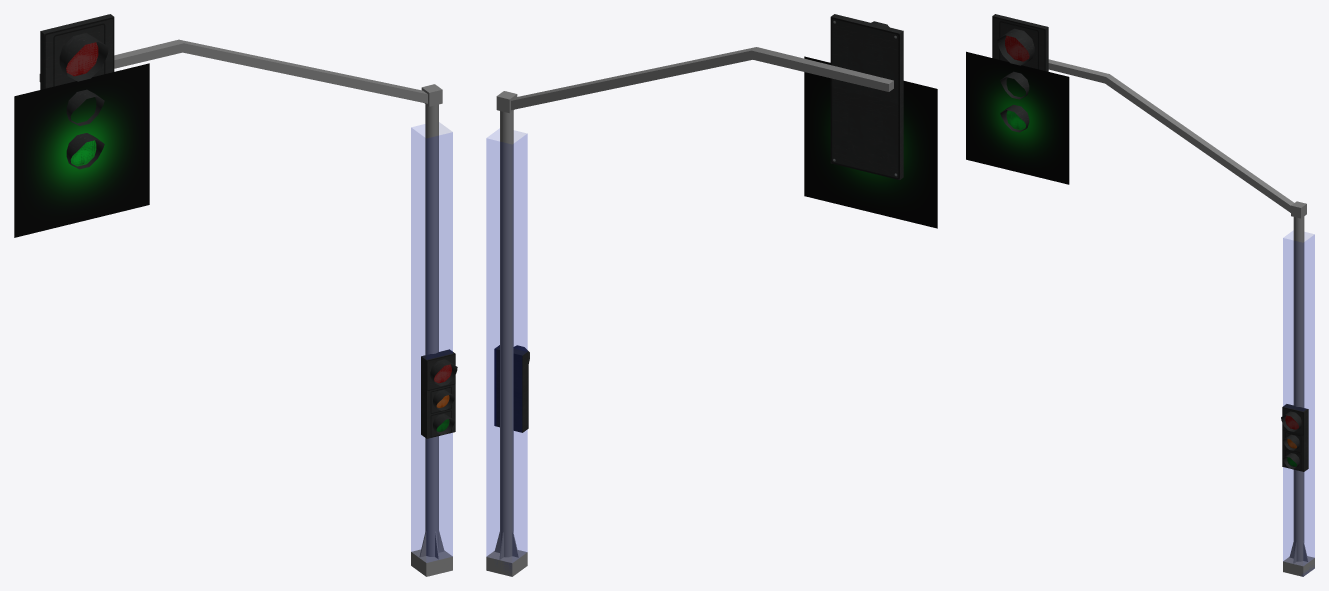
The model's file is Semaforo1.FBX.
3 views of the same model, side by side, from view 1: azimuth 30°, elevation 25°; view 2: azimuth 150°, elevation 25°; view 3: azimuth 330°, elevation 25° (orthographic). The views are drawn at different scales.
Visible parts, largest first — view 1: BrilhoPlane, SemaforoA, SemaforoColider, SemaforoB; view 2: SemaforoA, BrilhoPlane, SemaforoB, SemaforoColider; view 3: BrilhoPlane, SemaforoA, SemaforoColider, SemaforoB.
Boxes of the visible parts, left/top/right/bottom form: BrilhoPlane: left=14, top=63, right=149, bottom=237; SemaforoA: left=39, top=14, right=457, bottom=576; SemaforoColider: left=411, top=128, right=452, bottom=555; SemaforoB: left=44, top=17, right=455, bottom=576; SemaforoA: left=486, top=14, right=903, bottom=576; BrilhoPlane: left=804, top=56, right=937, bottom=228; SemaforoB: left=486, top=17, right=899, bottom=576; SemaforoColider: left=486, top=134, right=527, bottom=556; BrilhoPlane: left=966, top=51, right=1069, bottom=184; SemaforoA: left=992, top=14, right=1314, bottom=572; SemaforoColider: left=1283, top=234, right=1314, bottom=560; SemaforoB: left=992, top=18, right=1314, bottom=576.
Size of the model in its own units: 4.33 by 5.95 by 0.4565.
4 materials, 2 textured.
